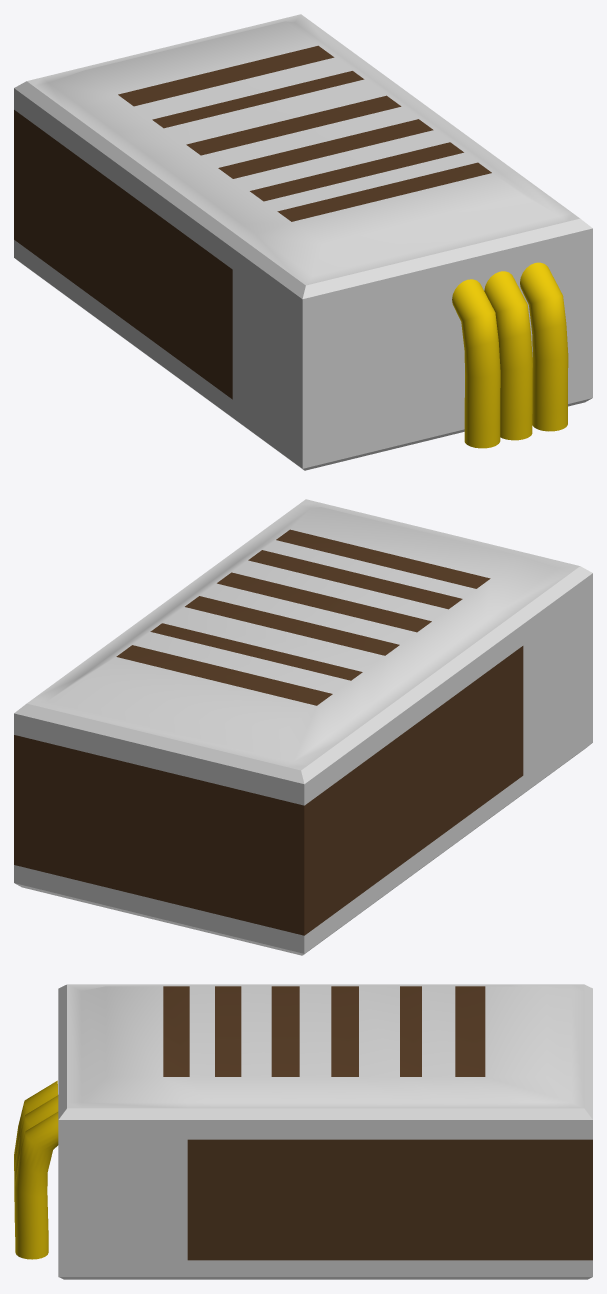
File: Prop_AirCon2_Mod.fbx
The picture shows the model from 3 angles, top to bottom: view 1: azimuth 30°, elevation 25°; view 2: azimuth 150°, elevation 25°; view 3: azimuth 270°, elevation 25°; orthographic projection. The views are drawn at different scales.
Parts seen in each view (by area): view 1: Aircon_1; view 2: Aircon_1; view 3: Aircon_1.
Boxes of the visible parts, bbox=[...] form: Aircon_1: bbox=[14, 14, 592, 470]; Aircon_1: bbox=[14, 499, 592, 955]; Aircon_1: bbox=[14, 984, 592, 1279].
Size of the model in its own units: 0.5813 by 0.3818 by 1.08.
